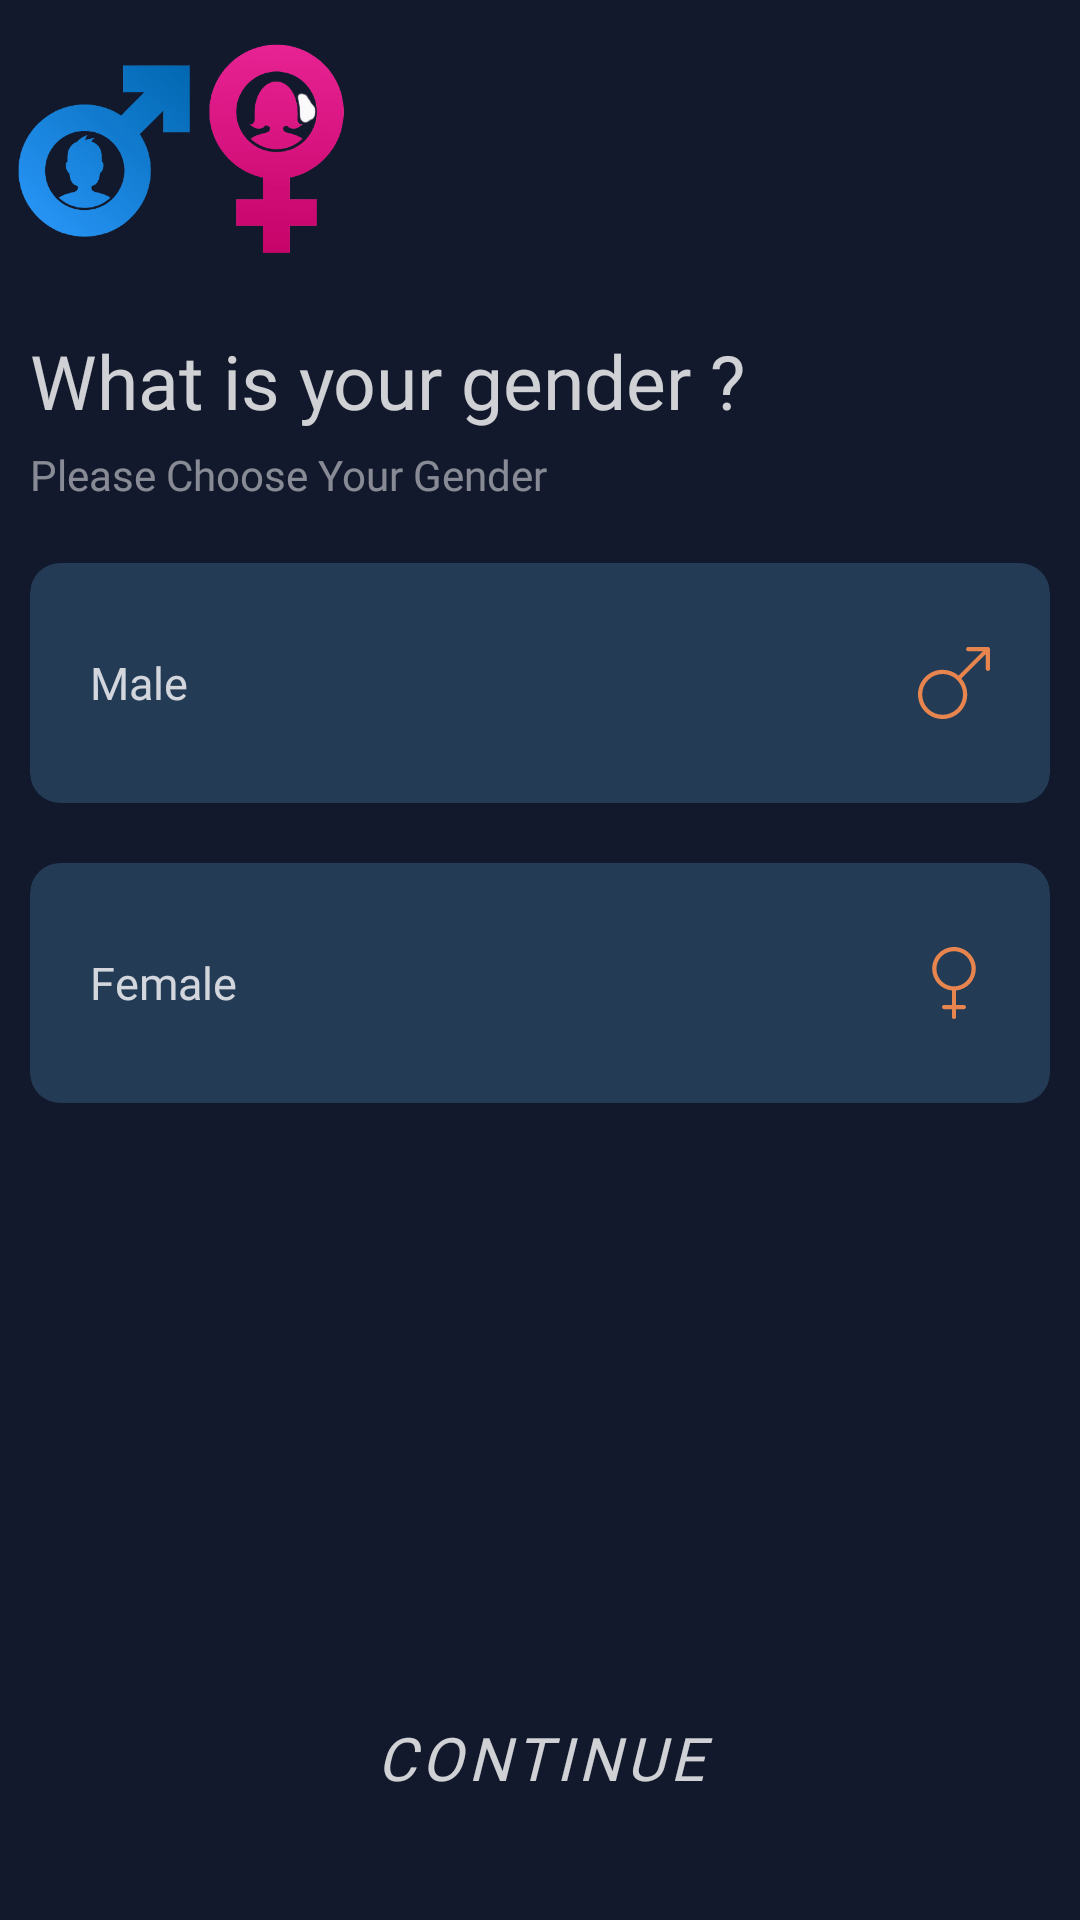

Icon bounding boxes for this 1080w x 1920h phone screenshot, format (x1, y1, x2, y2):
female: (932, 947, 976, 1019)
male: (918, 647, 990, 719)
